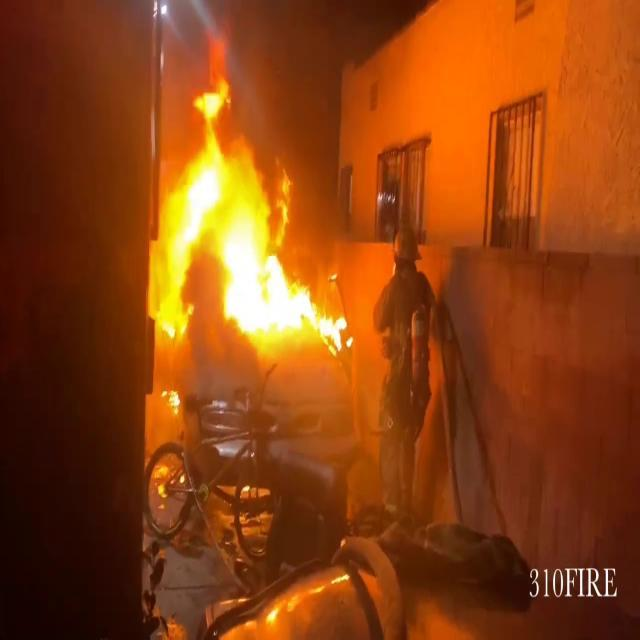Fire: (147, 74, 353, 354)
